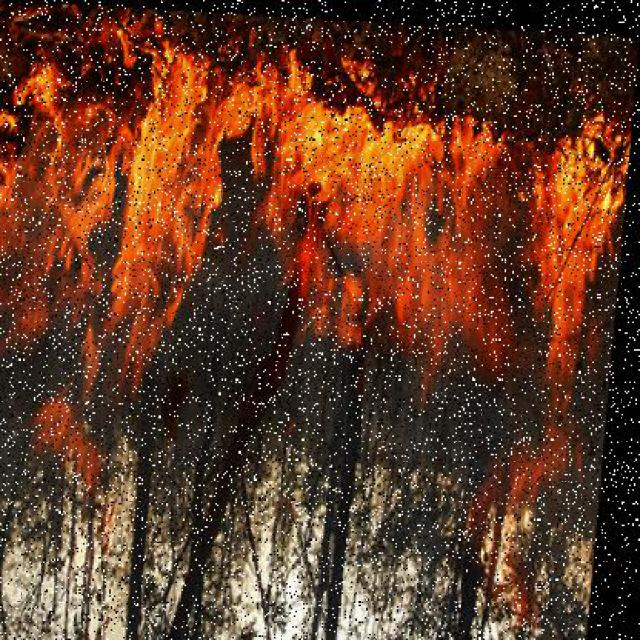fire: (1, 33, 638, 413)
